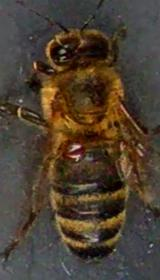varroa_mite: (58, 141, 92, 163)
